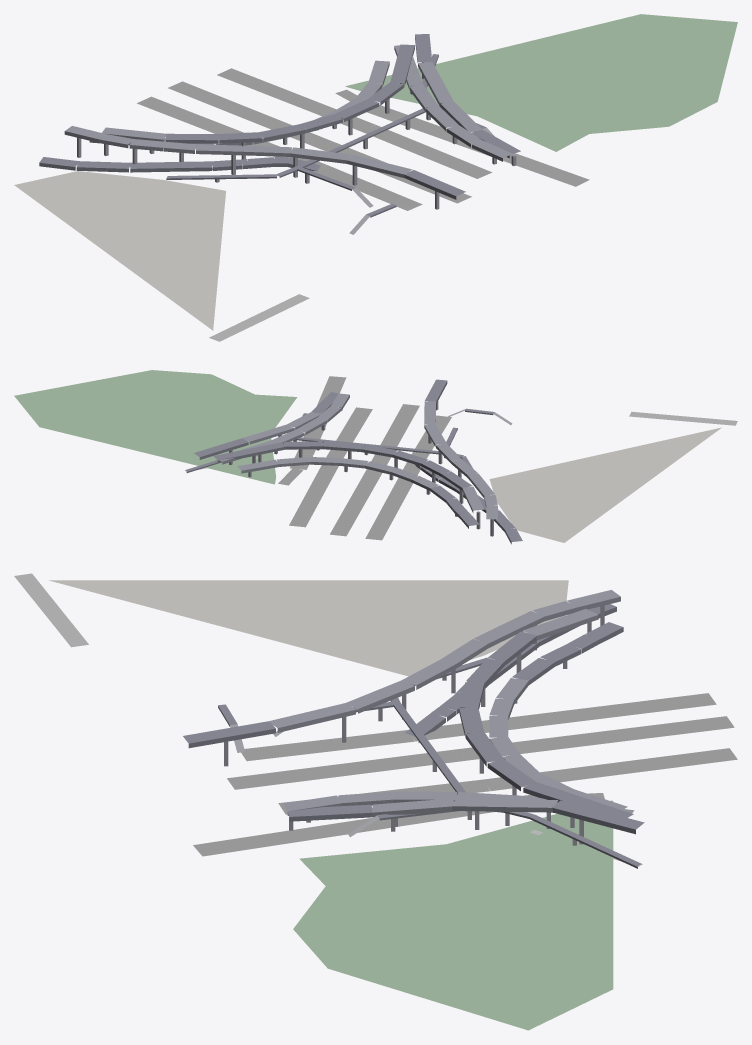
The picture shows the model from 3 angles, top to bottom: view 1: azimuth 30°, elevation 25°; view 2: azimuth 150°, elevation 25°; view 3: azimuth 270°, elevation 25°; orthographic projection. The views are drawn at different scales.
Size of the model in its own units: 398 by 15.84 by 266.
